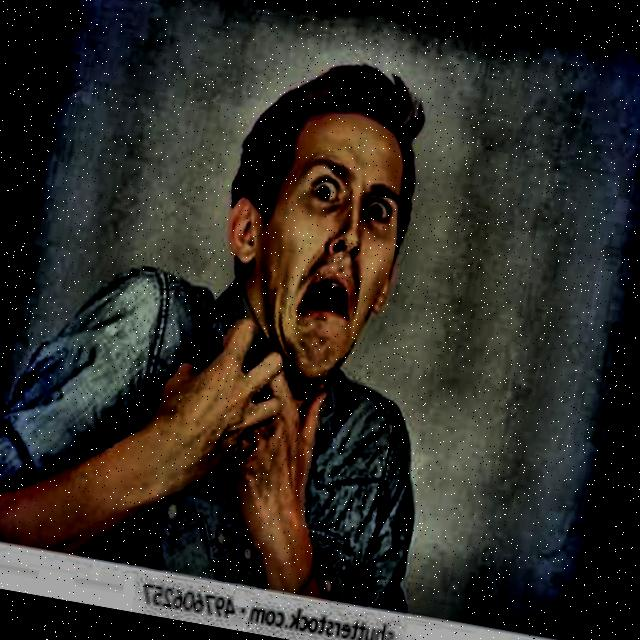fear: (192, 51, 441, 404)
